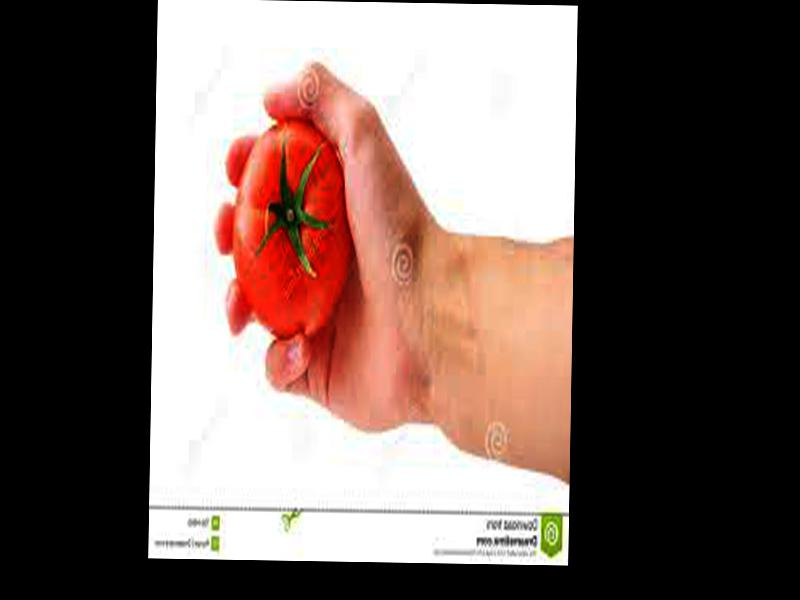Tomato: (231, 121, 350, 341)
